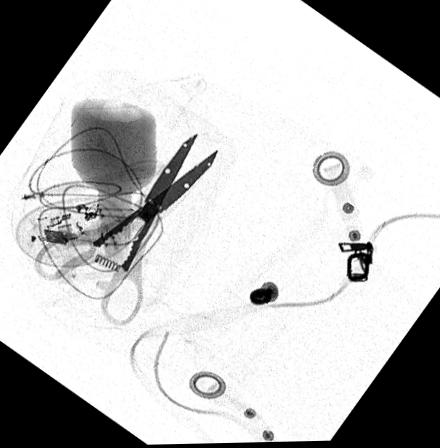Scissors: (26, 131, 220, 327)
